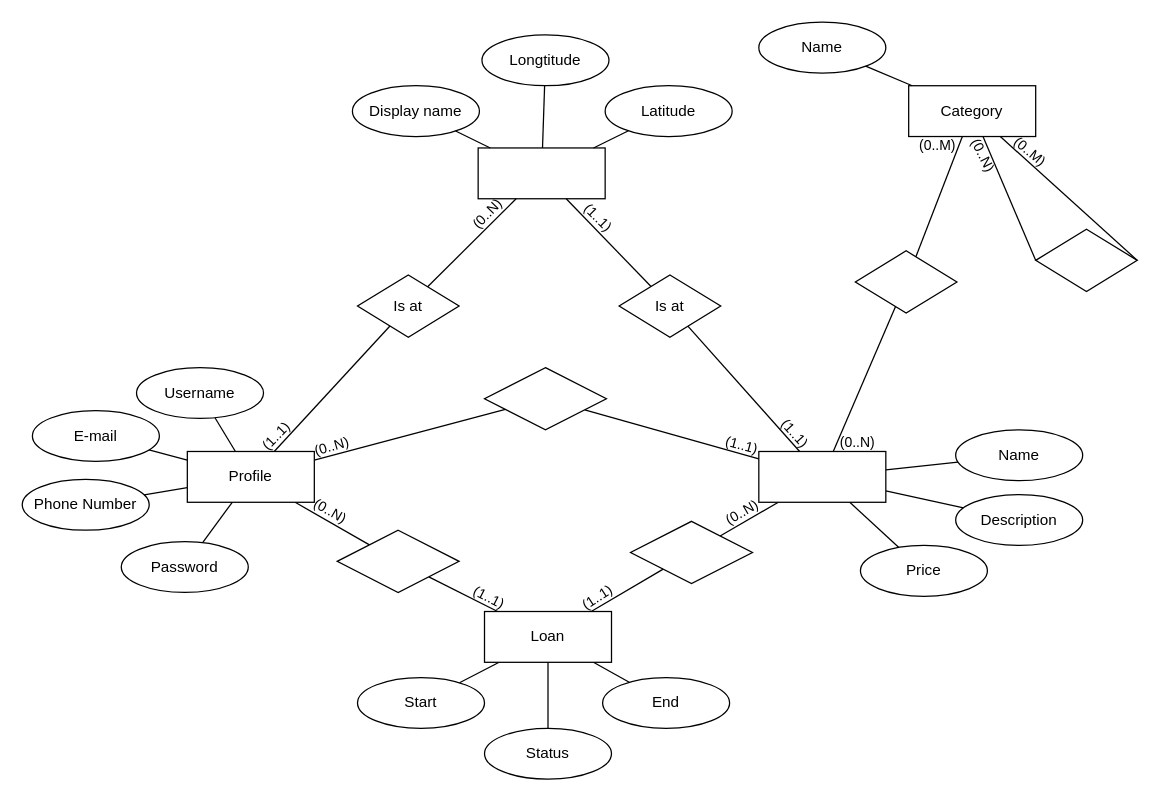
Some shapes in this 1161 by 801 pixel diagram are drawn without their labels. Here are the shapes that lost their labels. From the top down, the centre of each, then its label:
the point at 541,173: Location
the point at 1085,259: Falls under
the point at 905,281: Contains
the point at 544,398: Has
the point at 822,476: Object
the point at 397,560: Requests
the point at 690,552: Used in
